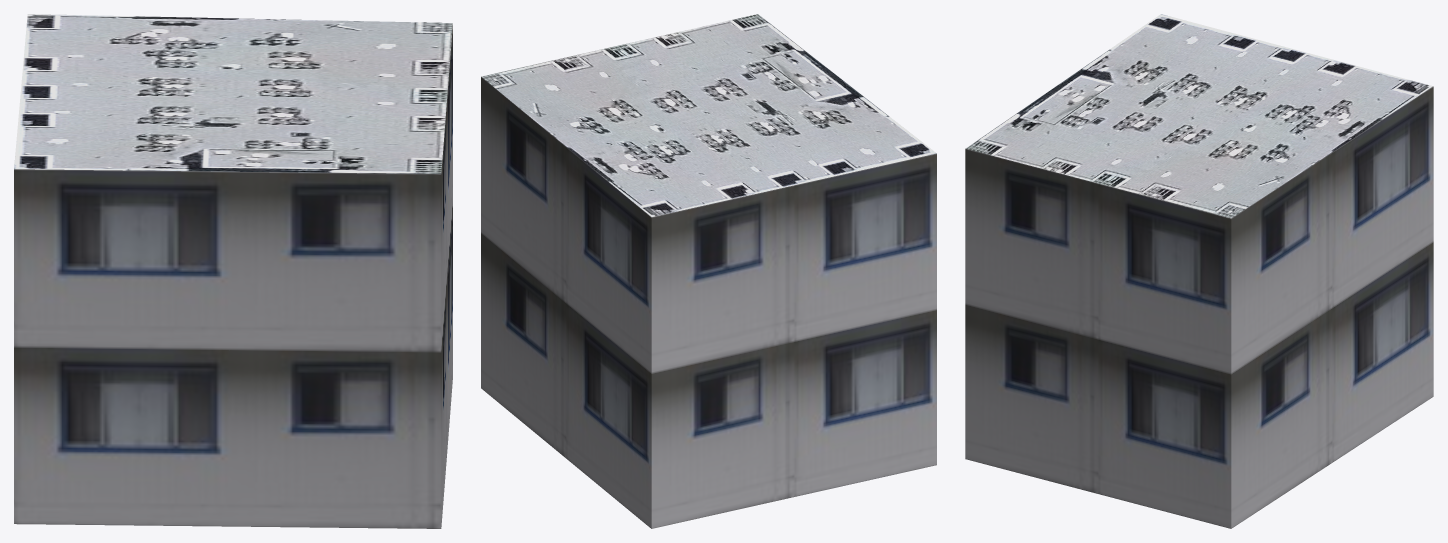
The model's file is ResTex__2055.fbx.
3 views of the same model, side by side, from view 1: azimuth 30°, elevation 25°; view 2: azimuth 150°, elevation 25°; view 3: azimuth 270°, elevation 25° (orthographic). The views are drawn at different scales.
Visible parts, largest first — view 1: CityEngineMaterial_9_m, CityEngineMaterial_8_m; view 2: CityEngineMaterial_9_m, CityEngineMaterial_8_m; view 3: CityEngineMaterial_9_m, CityEngineMaterial_8_m.
Part boxes in pixels (left/top/right/bottom): CityEngineMaterial_9_m: left=14, top=25, right=452, bottom=528; CityEngineMaterial_8_m: left=14, top=14, right=452, bottom=173; CityEngineMaterial_9_m: left=481, top=77, right=936, bottom=528; CityEngineMaterial_8_m: left=481, top=14, right=936, bottom=217; CityEngineMaterial_9_m: left=965, top=86, right=1433, bottom=528; CityEngineMaterial_8_m: left=966, top=14, right=1432, bottom=218.
Bounding box in the file's own units: 8.48 × 6 × 8.2.
2 materials, 2 textured.
